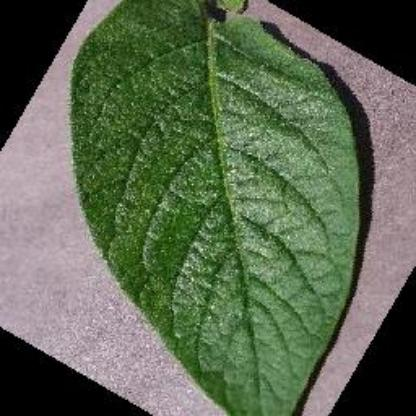Healthy-plant: (63, 0, 371, 414)
